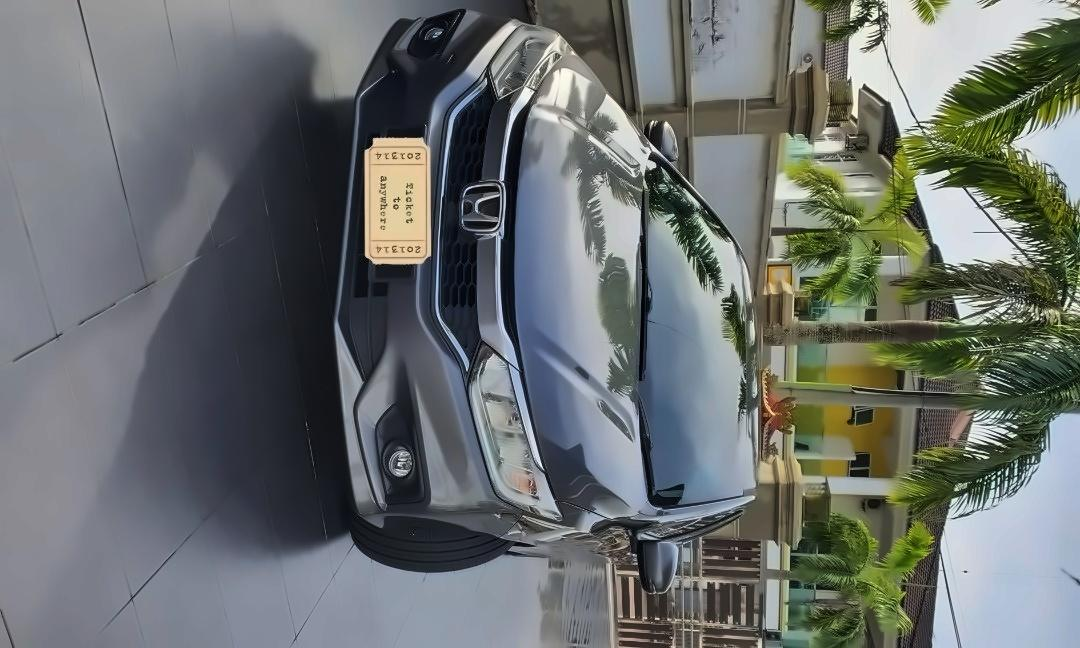Car hood: (507, 43, 656, 535)
Front bumper: (332, 8, 526, 541)
Headlight - -L-: (465, 339, 568, 531)
Headlight - -R-: (489, 18, 570, 104)
Side mirror - -L-: (637, 533, 681, 594)
Side mirror - -R-: (639, 113, 680, 166)
